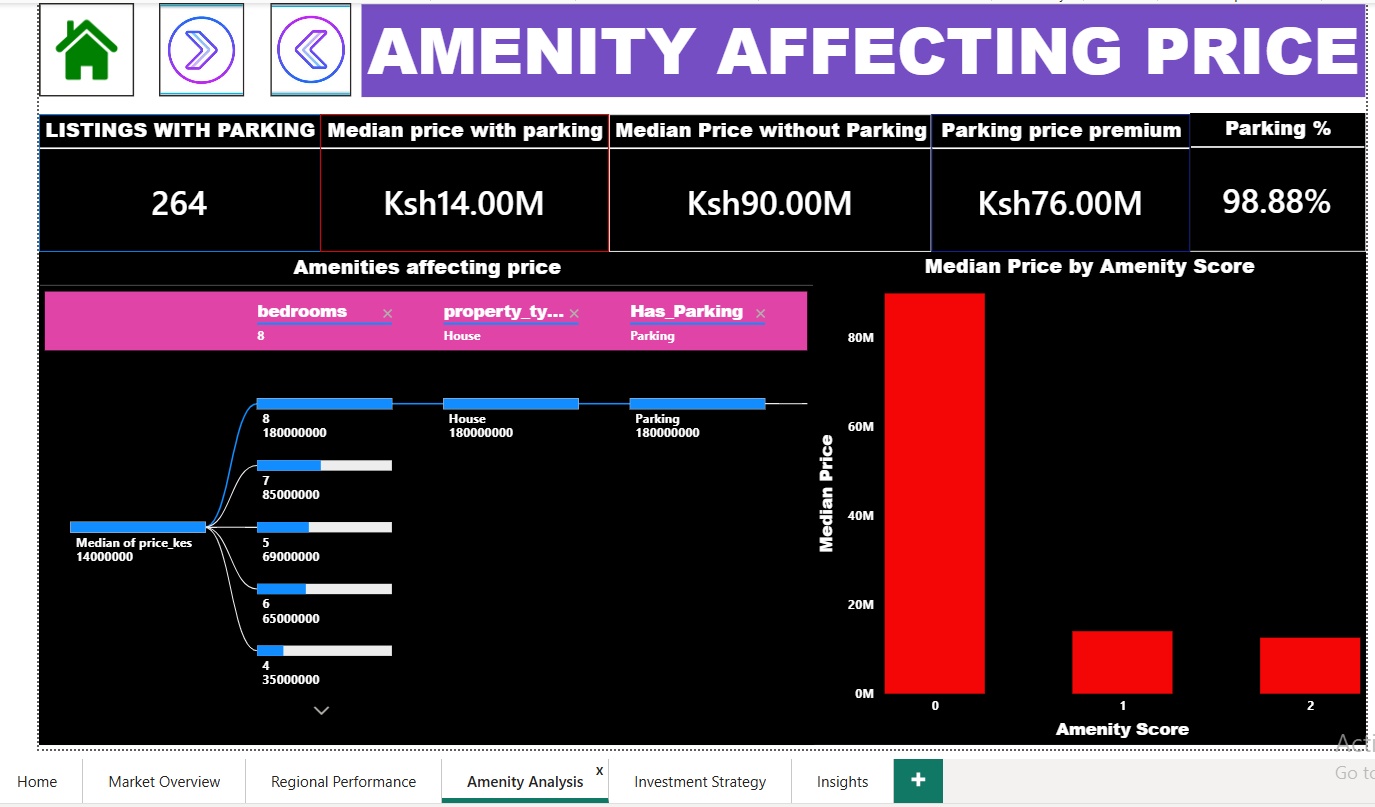

This screenshot's page, from the dashboard's own definition file:
{"tool":"powerbi","page":{"name":"Amenity Analysis","canvas":[1280,720],"ordinal":3},"visuals":[{"type":"clusteredColumnChart","title":"Median Price by Amenity Score","fields":{"Y":["clean_listings.Median Price"],"Category":["clean_listings.amenity_score"]},"box":[747.9,240.1,532.4,476.2],"z":0},{"type":"decompositionTreeVisual","title":"Amenities affecting price","fields":{"Analyze":["Median(clean_listings.price_kes)"],"ExplainBy":["clean_listings.bedrooms","clean_listings.property_type","clean_listings.Has_Parking","clean_listings.amenity_score"]},"box":[0,240.1,747.9,476.2],"z":1000},{"type":"cardVisual","title":"LISTINGS WITH PARKING","fields":{"Data":["clean_listings.Listings With Parking"]},"box":[0,107,271.7,133.1],"z":2000},{"type":"cardVisual","title":"Median Price without Parking","fields":{"Data":["clean_listings.Median Price Without Parking"]},"box":[550.3,107,311.5,133.1],"z":3000},{"type":"cardVisual","title":"Median price with parking","fields":{"Data":["clean_listings.Median Price With Parking"]},"box":[271.7,107,278.6,133.1],"z":4000},{"type":"cardVisual","title":"Parking price premium","fields":{"Data":["clean_listings.Parking Price Premium"]},"box":[861.8,107,249.7,133.1],"z":5000},{"type":"cardVisual","title":"Parking %","fields":{"Data":["clean_listings.Parking Percentage"]},"box":[1111.5,105.7,168.8,133.1],"z":6000},{"type":"textbox","title":"AMENITY AFFECTING PRICE","box":[311.3,1.2,968.8,89.3],"z":7000},{"type":"image","box":[0,0,91.9,90.6],"z":8000},{"type":"image","box":[115.3,0,82.3,90.6],"z":9000},{"type":"image","box":[223.7,0,78.2,90.6],"z":10000}]}

Visuals, with their boxes on the page's 1280x720 design canvas (x1, y1, x2, y2). These are canvas units, not pixel positions in the 1375x807 screenshot, which may show the page scaled, cropped or inside an application window:
"Median Price by Amenity Score" clusteredColumnChart: rect(748, 240, 1280, 716)
"Amenities affecting price" decompositionTreeVisual: rect(0, 240, 748, 716)
"LISTINGS WITH PARKING" cardVisual: rect(0, 107, 272, 240)
"Median Price without Parking" cardVisual: rect(550, 107, 862, 240)
"Median price with parking" cardVisual: rect(272, 107, 550, 240)
"Parking price premium" cardVisual: rect(862, 107, 1112, 240)
"Parking %" cardVisual: rect(1112, 106, 1280, 239)
"AMENITY AFFECTING PRICE" textbox: rect(311, 1, 1280, 90)
image: rect(0, 0, 92, 91)
image: rect(115, 0, 198, 91)
image: rect(224, 0, 302, 91)
